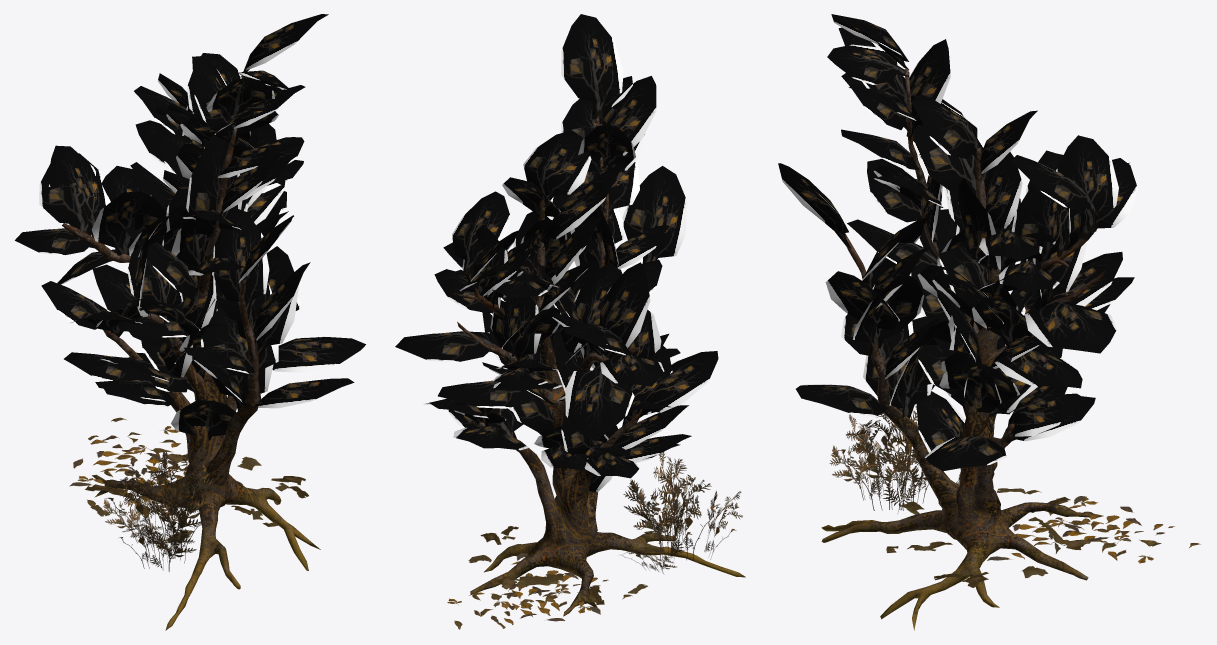
File: tree1.gltf
3 views of the same model, side by side, from view 1: azimuth 30°, elevation 25°; view 2: azimuth 150°, elevation 25°; view 3: azimuth 270°, elevation 25° (orthographic). The views are drawn at different scales.
Visible parts, largest first — view 1: leaves, tree1, plant1_1, dryleaves_1, wooddebris; view 2: leaves, tree1, plant1_1, dryleaves_1, wooddebris; view 3: leaves, tree1, plant1_1, dryleaves_1, wooddebris.
Part boxes in pixels (bbox=[...]): leaves: bbox=[15, 14, 365, 440]; tree1: bbox=[62, 76, 320, 630]; plant1_1: bbox=[102, 445, 216, 571]; dryleaves_1: bbox=[69, 417, 242, 509]; wooddebris: bbox=[85, 453, 308, 543]; leaves: bbox=[395, 14, 718, 492]; tree1: bbox=[454, 116, 745, 616]; plant1_1: bbox=[621, 452, 742, 573]; dryleaves_1: bbox=[447, 553, 632, 629]; wooddebris: bbox=[468, 526, 664, 604]; leaves: bbox=[778, 14, 1138, 471]; tree1: bbox=[821, 68, 1104, 630]; plant1_1: bbox=[829, 406, 960, 514]; dryleaves_1: bbox=[987, 490, 1200, 563]; wooddebris: bbox=[886, 488, 1090, 587].
Bounding box in the file's own units: 208 × 395 × 254.
Materials: 5 (5 with a texture image).
